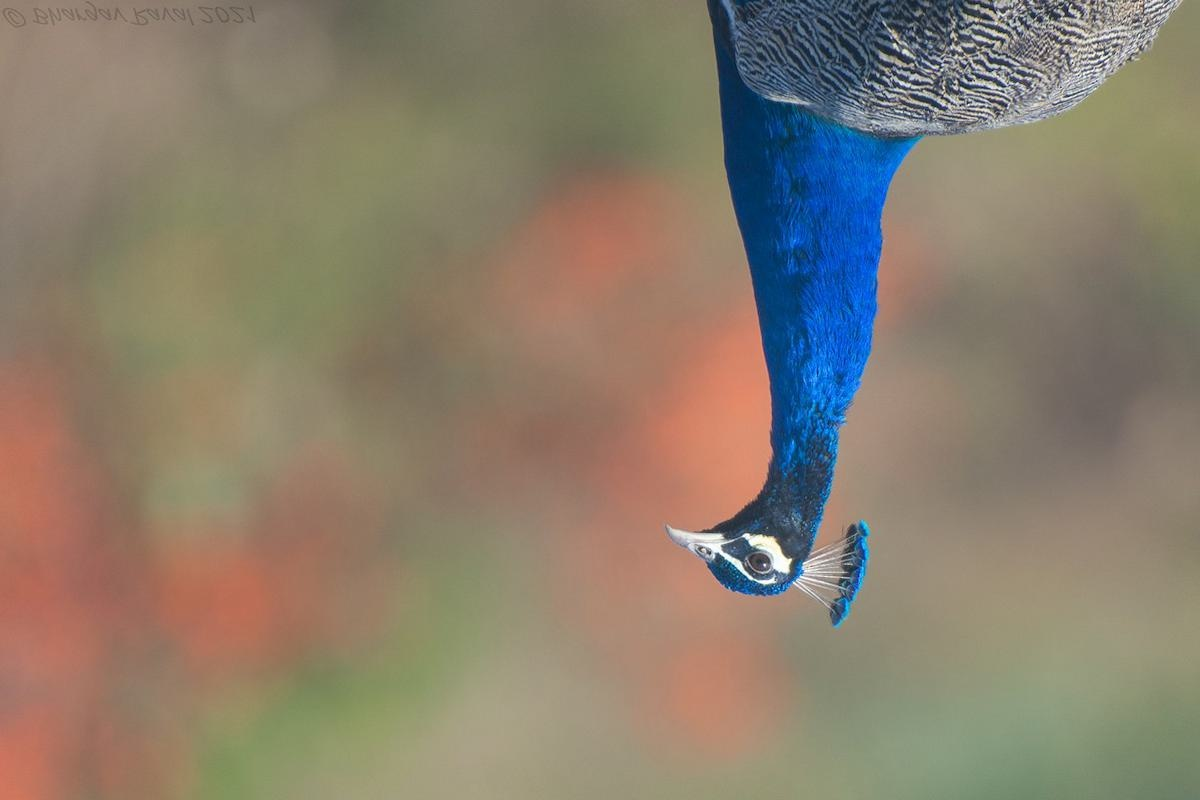peacock: (618, 1, 1187, 660)
